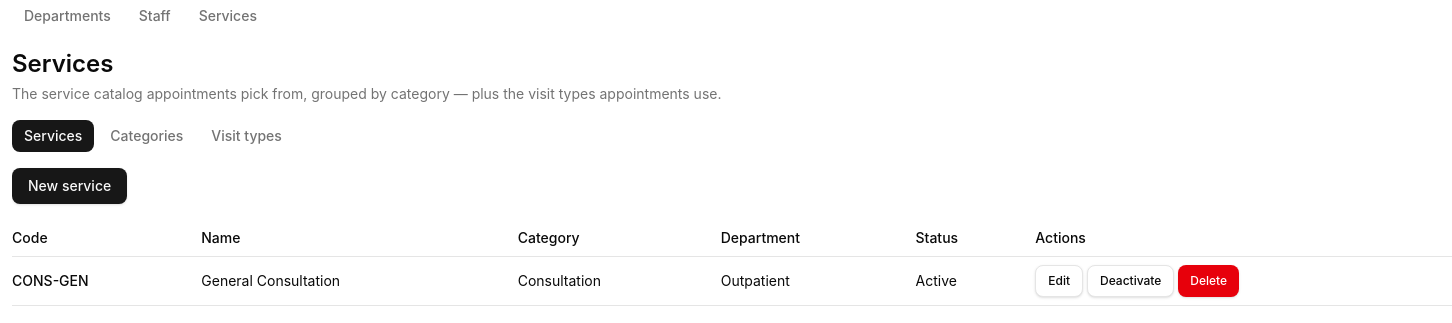
ServicesPage › lists visit types on the Visit types tab
Click the button "Visit types": (247, 136) [199,120,294,152]
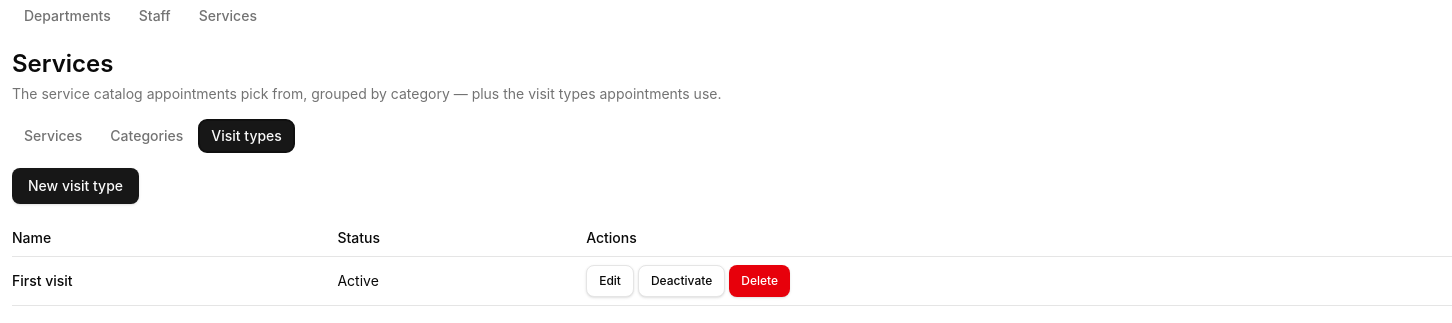
Now the text "First visit" is shown, box [12,256,338,306]
